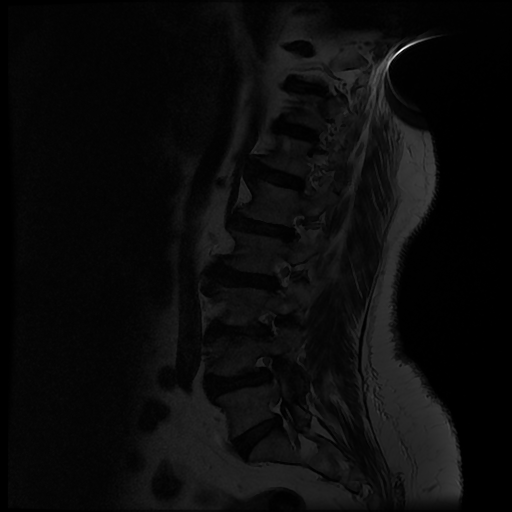RFS0: (243, 302, 288, 350)
RFS1: (244, 347, 288, 392)
